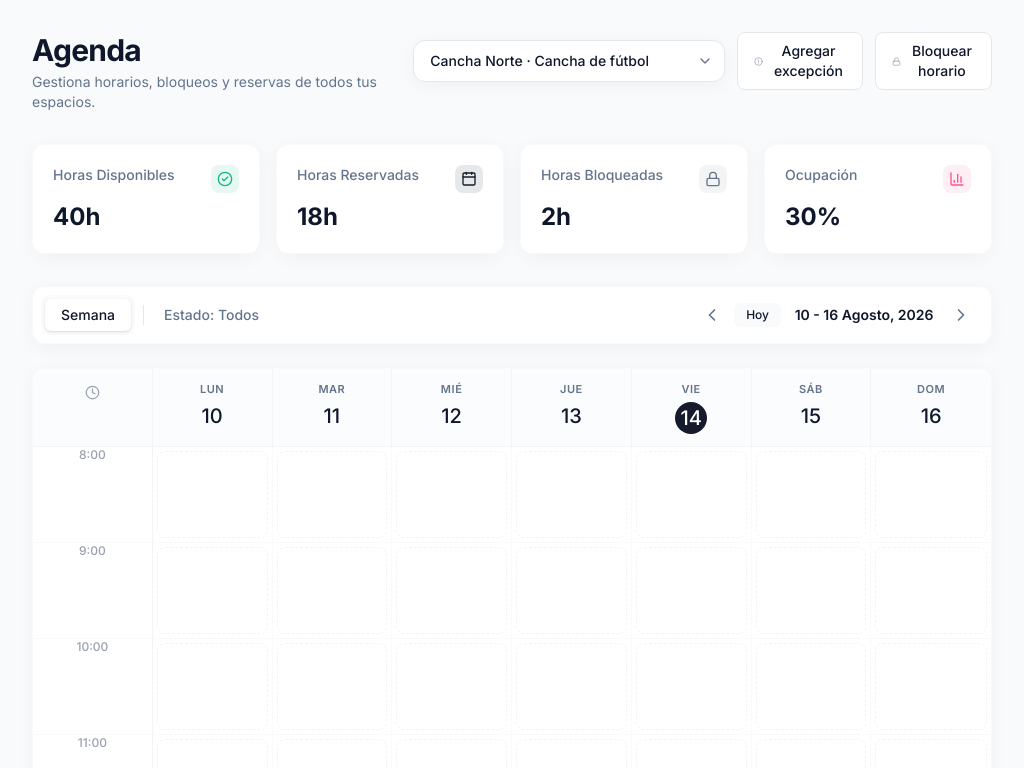
espacio de franja exclusiva › abre el modal de bloqueo desde el encabezado
Expected: the text "Lun" is shown, [200,382,224,396]
Click the button "Bloquear horario".
click(934, 61)  # box [875,32,992,90]
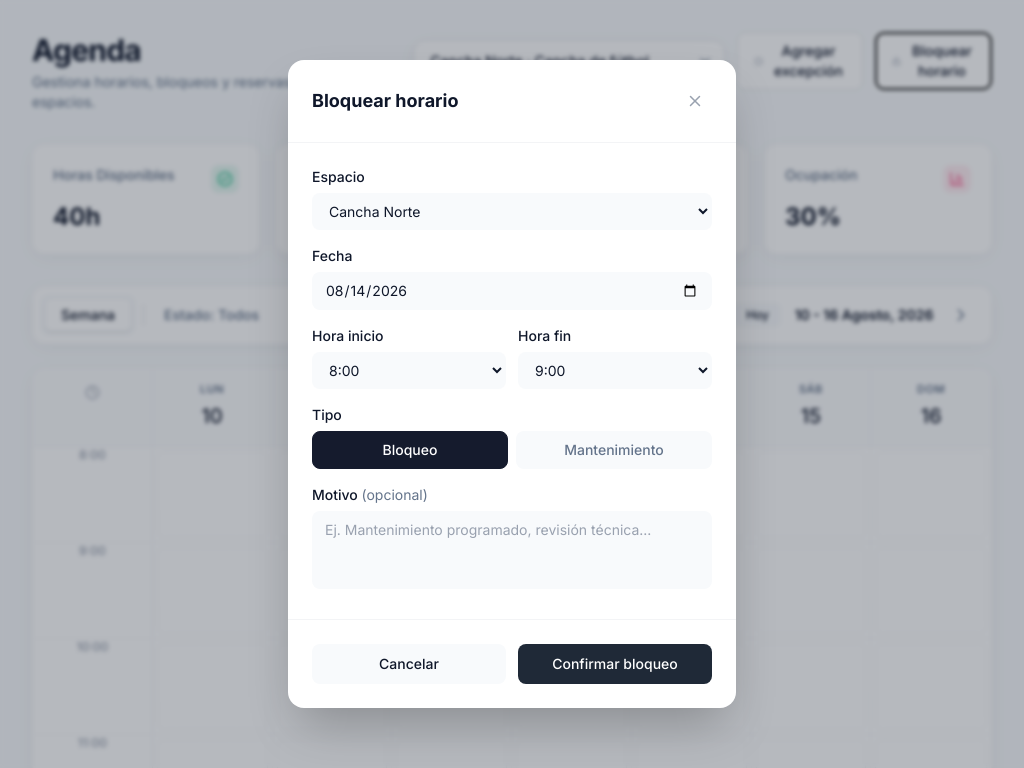
Expected: the heading "Bloquear horario" is shown, [312,87,458,115]
